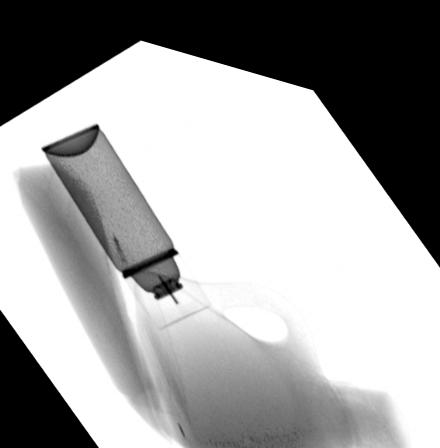Sprayer: (37, 115, 212, 325)
